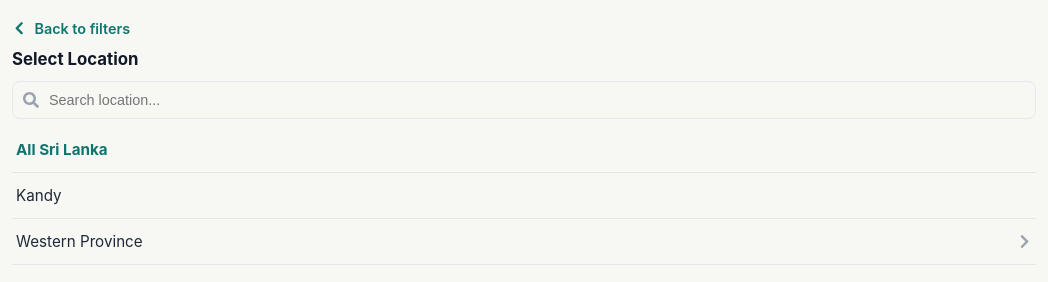
Test: LocationSelector › drills into a province and shows Back navigation
Click the button "Western Province": coordinates (79, 242) [12,219,1036,265]
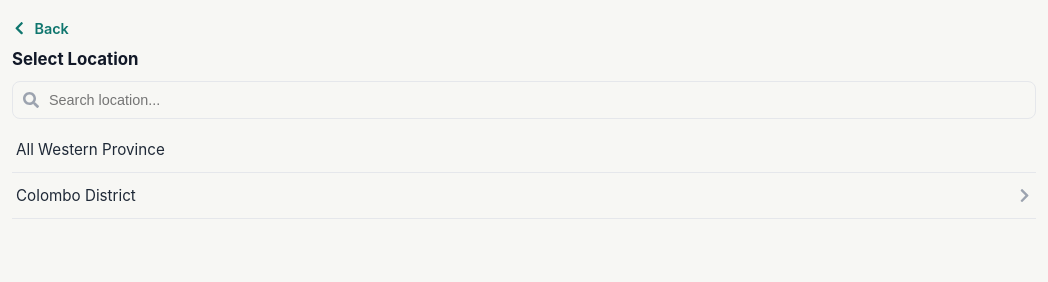
Now the button "All Western Province" is shown, box [12,127,1036,173]
Now the text "Colombo District" is shown, box [16,186,136,205]
Click the button "Back": coordinates (40, 28) [12,12,69,45]
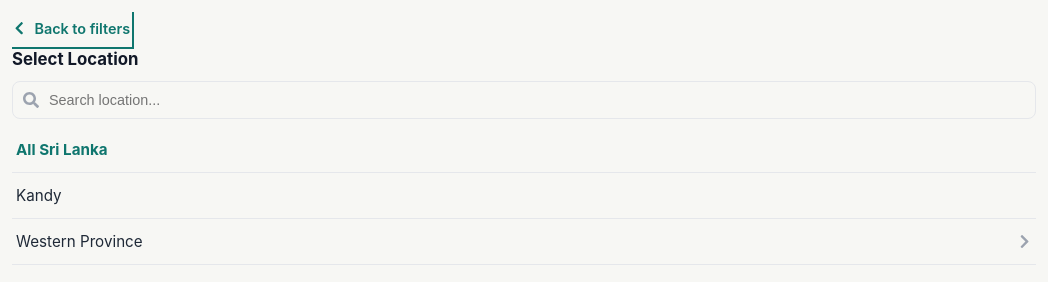
Now the button "All Sri Lanka" is shown, box [12,127,1036,173]
